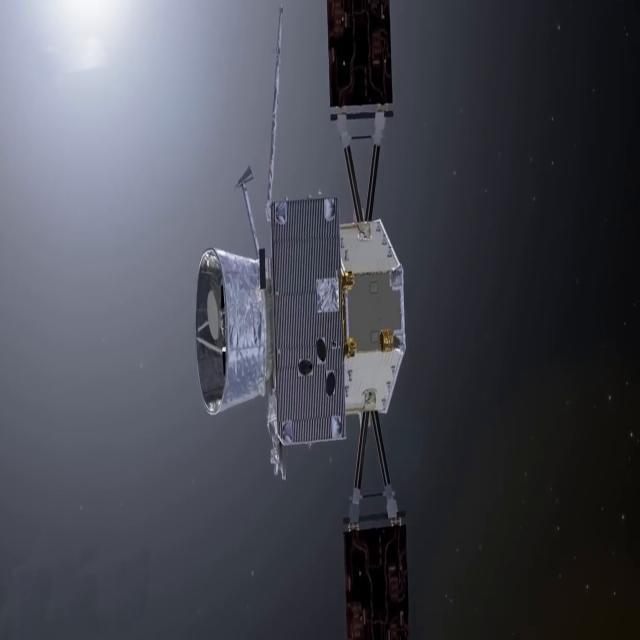sat: (173, 0, 431, 640)
